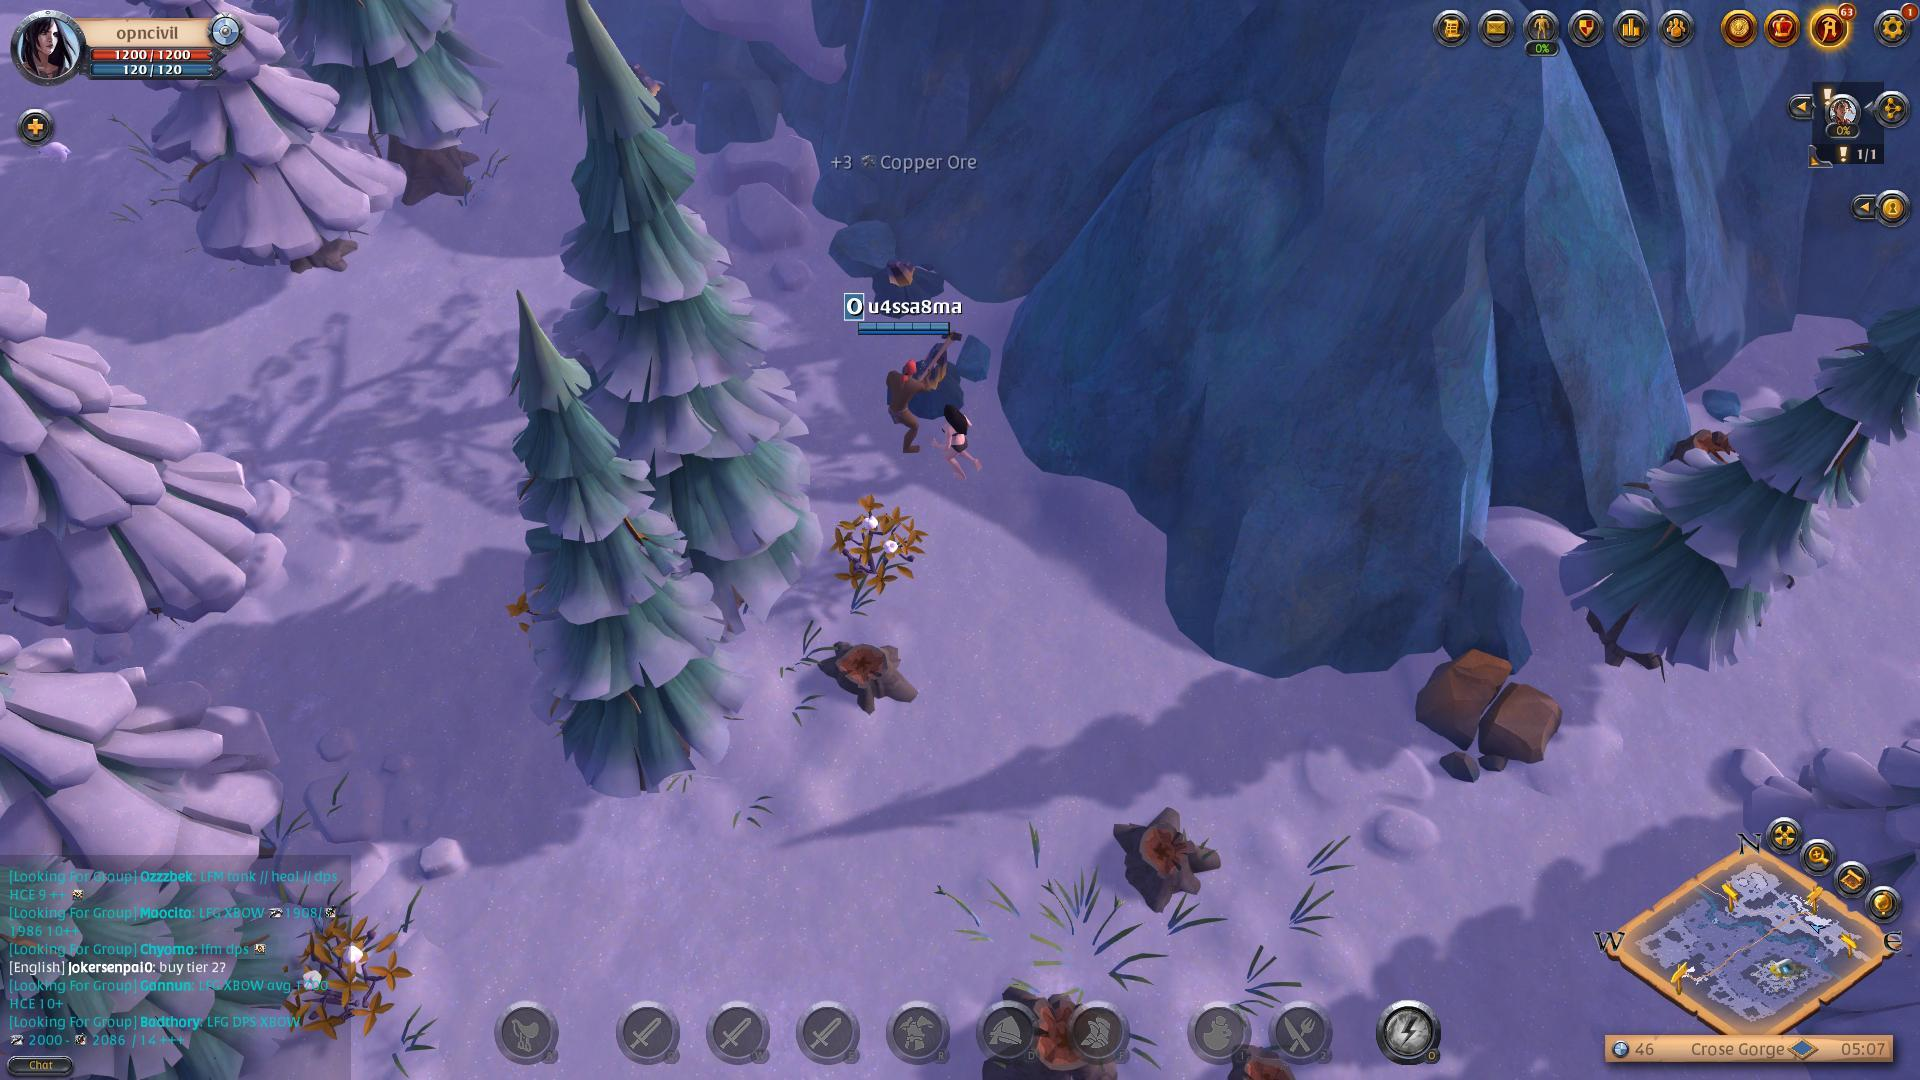cotton: (301, 907, 415, 1035), (825, 497, 942, 583)
limestone: (1406, 657, 1584, 773)
